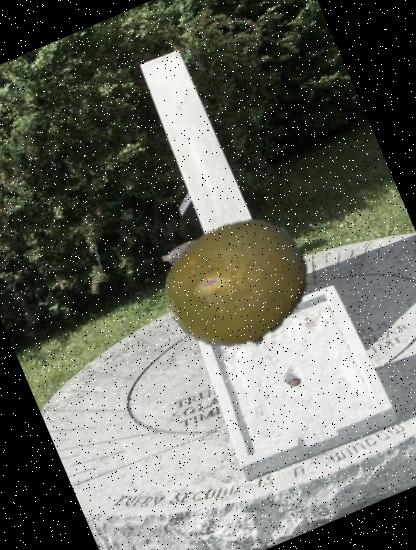Beetroot: (152, 222, 224, 294)
Maracuja: (144, 190, 332, 378)
